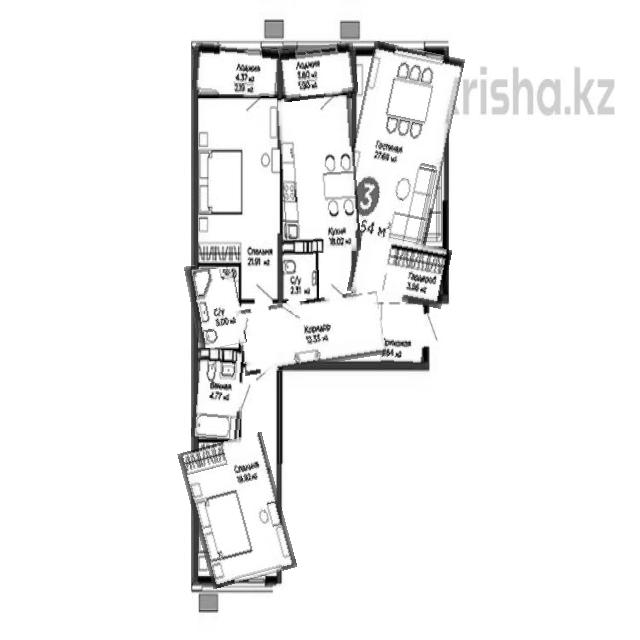balcony: (193, 44, 279, 96), (280, 44, 357, 100)
bathroom: (188, 260, 244, 349), (193, 349, 245, 441), (278, 240, 319, 301)
hallway: (237, 294, 384, 372), (382, 306, 426, 368)
kitchen: (280, 94, 358, 254)
living_room: (344, 44, 455, 250), (195, 94, 283, 269), (186, 436, 289, 585)
other: (350, 237, 450, 305)
